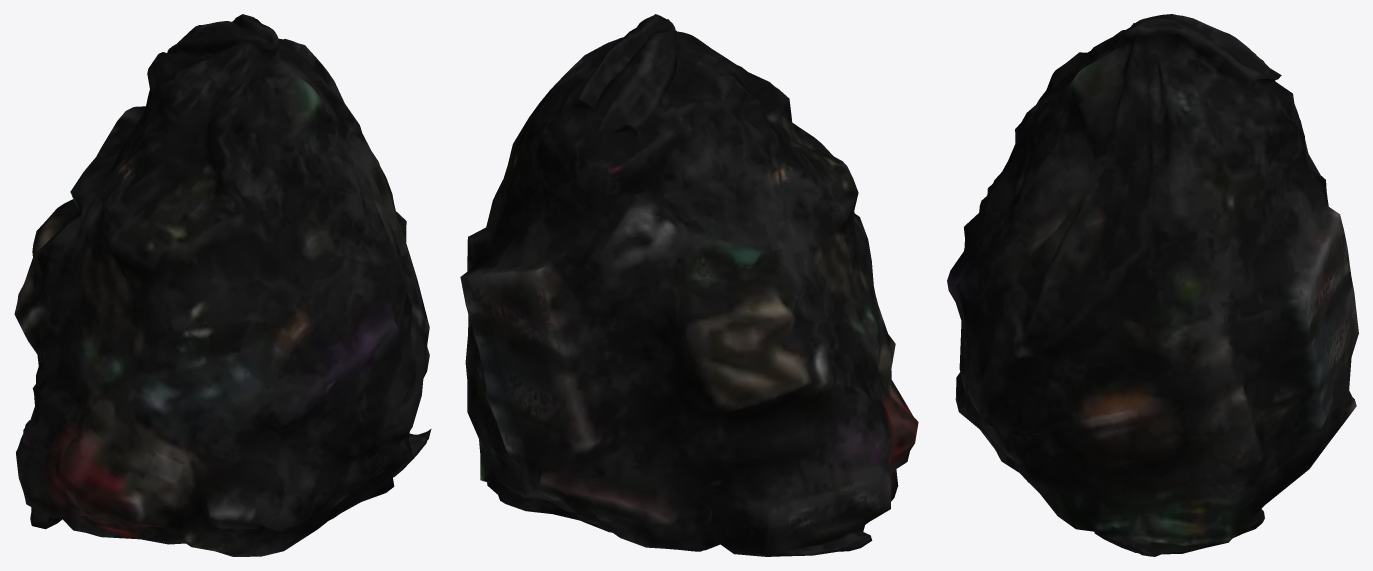
File: trashbag.glb
3 views of the same model, side by side, from view 1: azimuth 30°, elevation 25°; view 2: azimuth 150°, elevation 25°; view 3: azimuth 270°, elevation 25° (orthographic). The views are drawn at different scales.
Parts seen in each view (by area): view 1: trashbag; view 2: trashbag; view 3: trashbag.
Boxes of the visible parts, left/top/right/bottom form: trashbag: left=14, top=14, right=431, bottom=556; trashbag: left=460, top=14, right=918, bottom=556; trashbag: left=947, top=14, right=1358, bottom=556.
Bounding box in the file's own units: 0.528 × 0.575 × 0.4629.
Materials: 1 (1 with a texture image).
